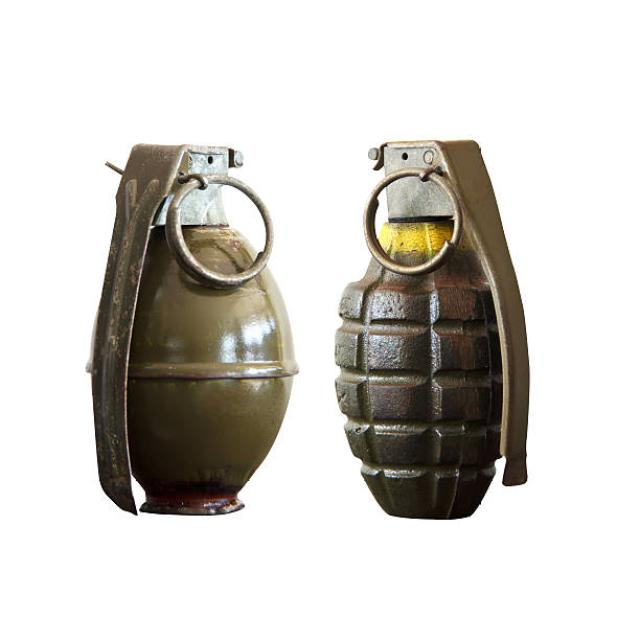grenade: (83, 137, 305, 530), (327, 126, 539, 531)
